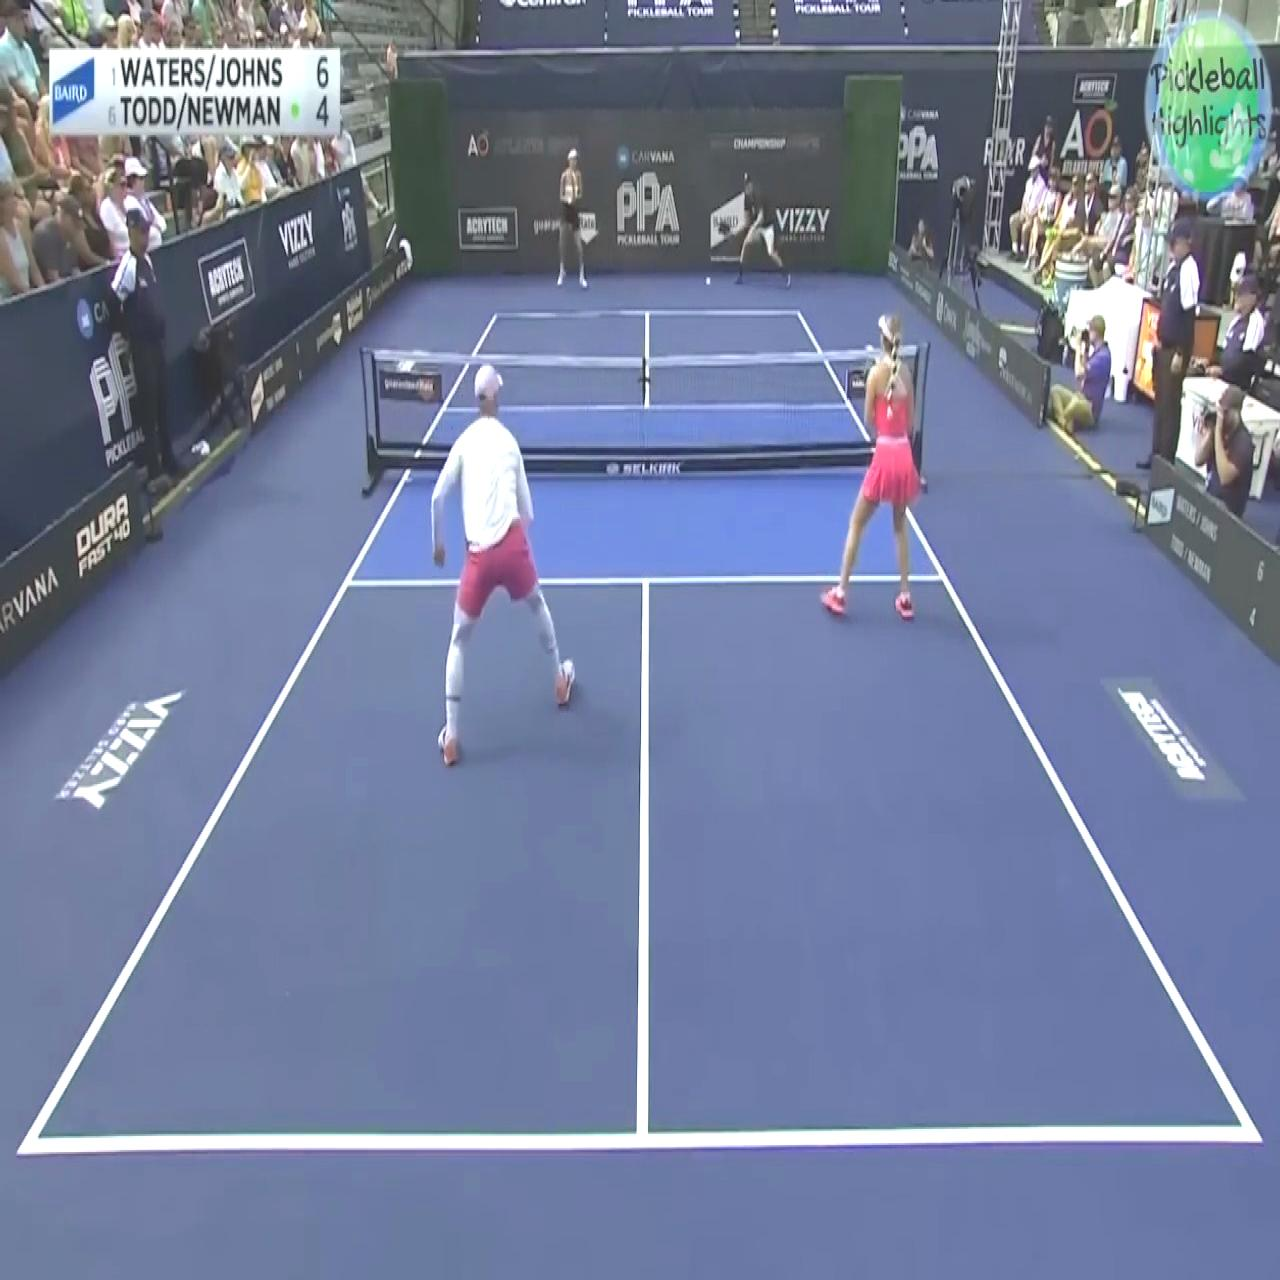Pickleball: (703, 272, 712, 290)
